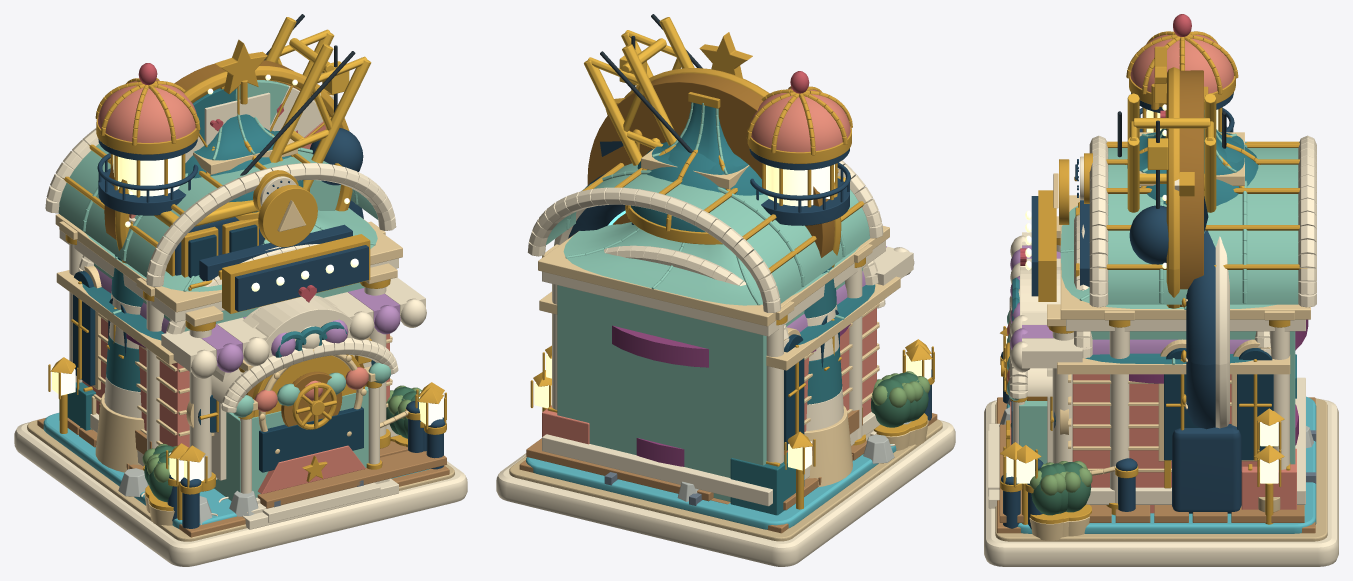
Rendered from compact-specials.glb.
3 views of the same model, side by side, from view 1: azimuth 30°, elevation 25°; view 2: azimuth 150°, elevation 25°; view 3: azimuth 270°, elevation 25° (orthographic). The views are drawn at different scales.
Visible parts, largest first — view 1: compact_vault_bank_geometry, compact_teleport_gate_geometry, compact_rush_station_geometry, compact_card_pavilion_geometry, compact_builders_guild_geometry, compact_chance_wheel_geometry, compact_civic_hall_geometry, life_compact_wheel_rotor_geometry, life_compact_crane_pendulum_geometry; view 2: compact_vault_bank_geometry, compact_teleport_gate_geometry, compact_rush_station_geometry, compact_builders_guild_geometry, compact_civic_hall_geometry, compact_card_pavilion_geometry, life_compact_wheel_rotor_geometry, compact_chance_wheel_geometry; view 3: compact_rush_station_geometry, compact_teleport_gate_geometry, compact_vault_bank_geometry, compact_civic_hall_geometry, compact_builders_guild_geometry, compact_card_pavilion_geometry, compact_chance_wheel_geometry, life_compact_wheel_rotor_geometry, life_compact_crane_pendulum_geometry.
Part boxes in pixels (x1,y1,x2,y2): compact_vault_bank_geometry: (16, 133, 461, 565); compact_teleport_gate_geometry: (16, 63, 466, 561); compact_rush_station_geometry: (18, 128, 466, 566); compact_card_pavilion_geometry: (14, 89, 465, 566); compact_builders_guild_geometry: (14, 14, 467, 566); compact_chance_wheel_geometry: (15, 39, 467, 566); compact_civic_hall_geometry: (15, 86, 466, 566); life_compact_wheel_rotor_geometry: (104, 60, 352, 263); life_compact_crane_pendulum_geometry: (310, 45, 363, 185); compact_vault_bank_geometry: (499, 142, 951, 565); compact_teleport_gate_geometry: (497, 71, 954, 549); compact_rush_station_geometry: (499, 160, 951, 543); compact_builders_guild_geometry: (496, 14, 955, 565); compact_civic_hall_geometry: (496, 92, 955, 566); compact_card_pavilion_geometry: (498, 98, 955, 566); life_compact_wheel_rotor_geometry: (587, 68, 841, 267); compact_chance_wheel_geometry: (496, 32, 955, 565); compact_rush_station_geometry: (987, 135, 1336, 546); compact_teleport_gate_geometry: (987, 14, 1330, 566); compact_vault_bank_geometry: (984, 133, 1338, 563); compact_civic_hall_geometry: (984, 86, 1338, 566); compact_builders_guild_geometry: (984, 93, 1338, 563); compact_card_pavilion_geometry: (986, 110, 1338, 566); compact_chance_wheel_geometry: (984, 46, 1338, 566); life_compact_wheel_rotor_geometry: (1162, 67, 1203, 308); life_compact_crane_pendulum_geometry: (1129, 120, 1168, 264).
Size of the model in its own units: 1.02 by 1.42 by 1.02.
